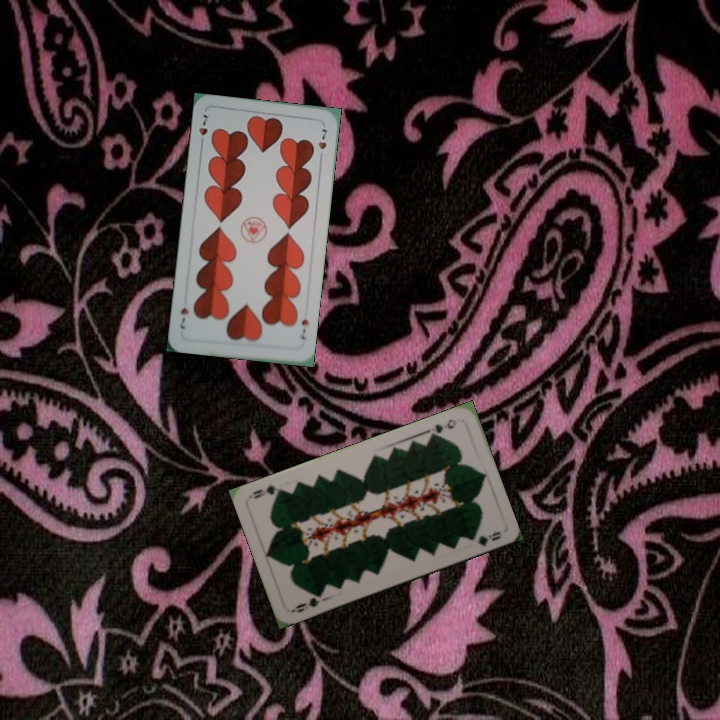G9: (288, 588, 325, 615), (425, 415, 459, 440)
H7: (194, 110, 212, 149), (297, 315, 311, 342)
